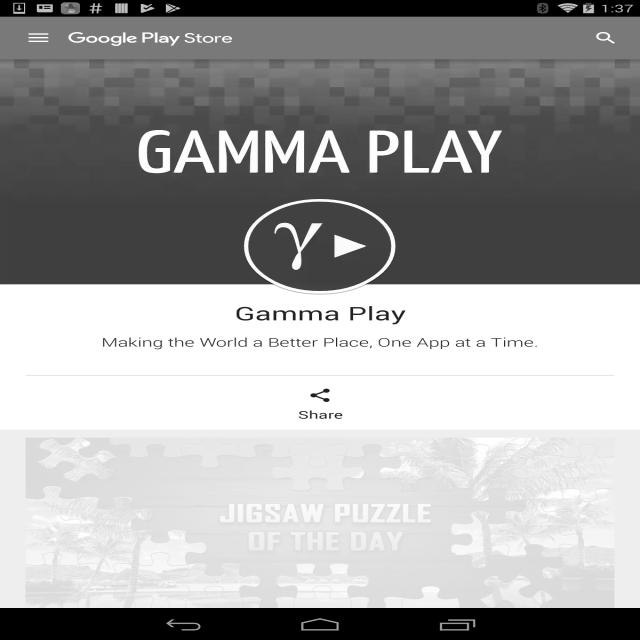Button: (0, 375, 640, 430)
ImageButton: (9, 17, 68, 59)
ImageView: (0, 59, 640, 284), (26, 438, 614, 617), (243, 199, 397, 295), (68, 30, 233, 46), (307, 388, 333, 403)
TextView: (0, 284, 640, 326), (0, 334, 640, 362), (580, 22, 632, 54), (298, 407, 342, 422)
